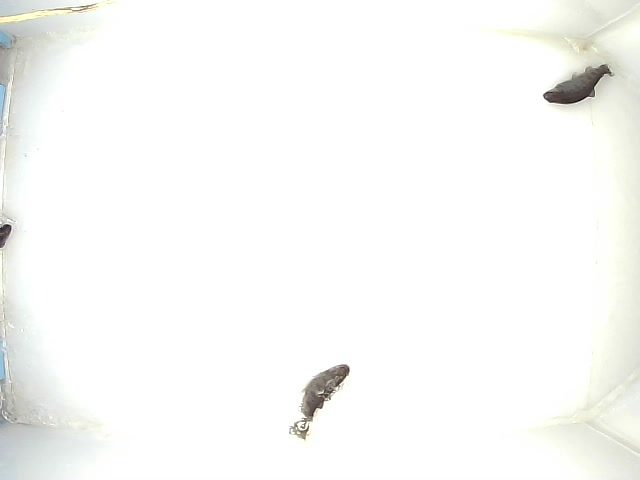fish: (289, 363, 350, 440), (541, 62, 615, 105)
